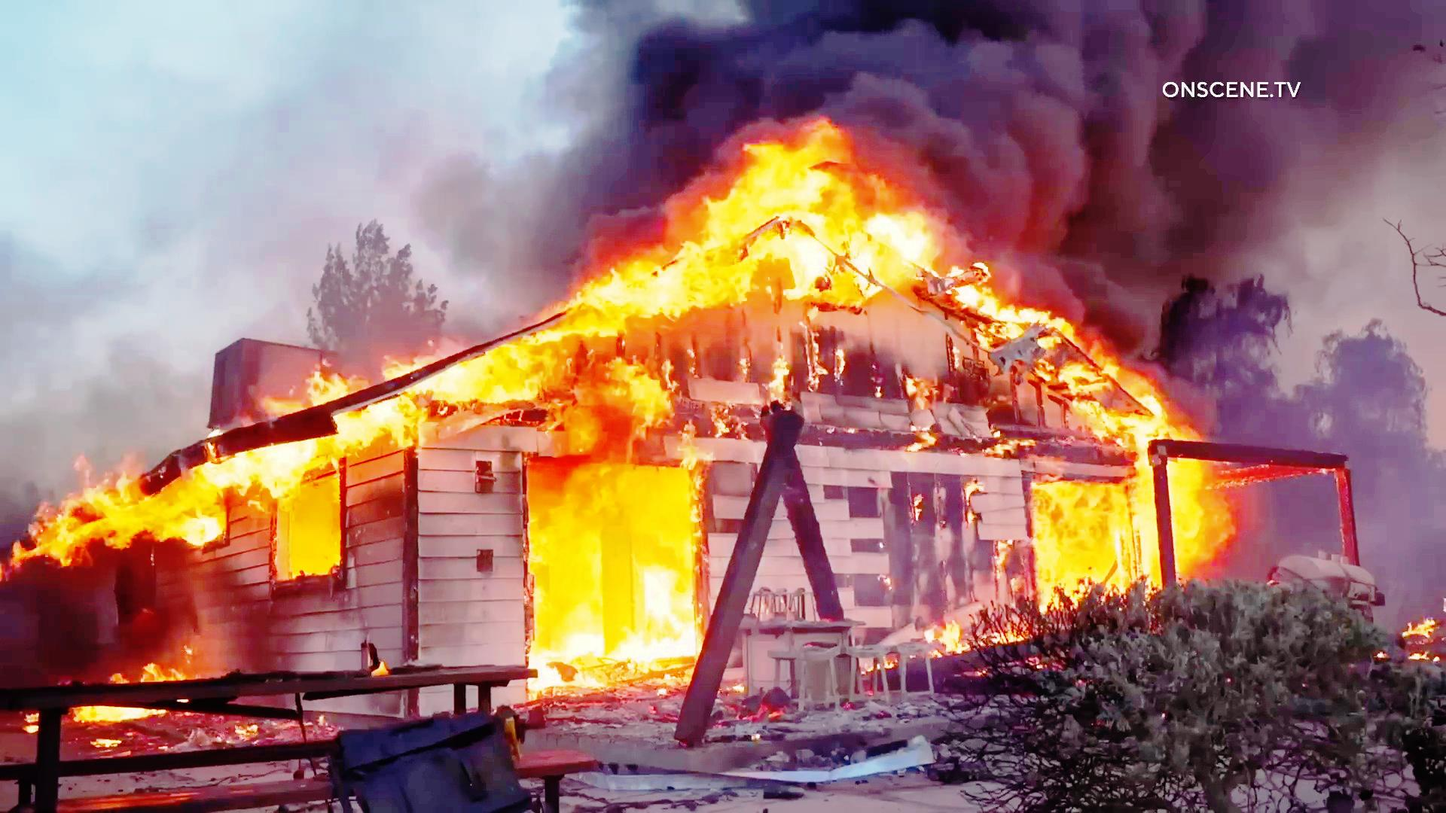fire: (42, 407, 343, 556), (701, 121, 918, 308), (529, 454, 706, 675), (531, 458, 695, 664), (456, 324, 674, 441), (1129, 422, 1217, 572), (1030, 484, 1127, 613)
smoke: (932, 2, 1141, 261)
